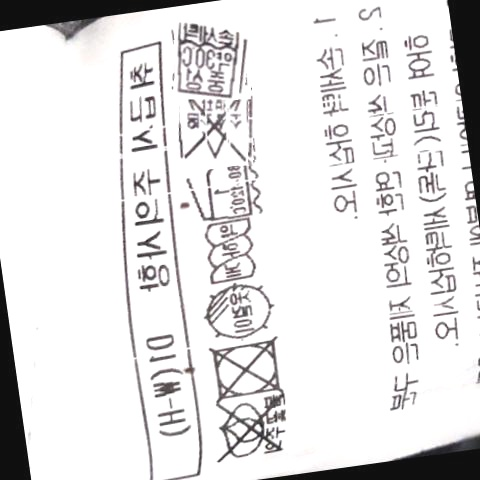DN_tumble_dry: (206, 336, 290, 400)
hand_wash: (170, 25, 248, 95)
iron_low: (190, 163, 257, 222)
line_dry_in_shade: (199, 283, 278, 339)
wring: (204, 219, 259, 285)
